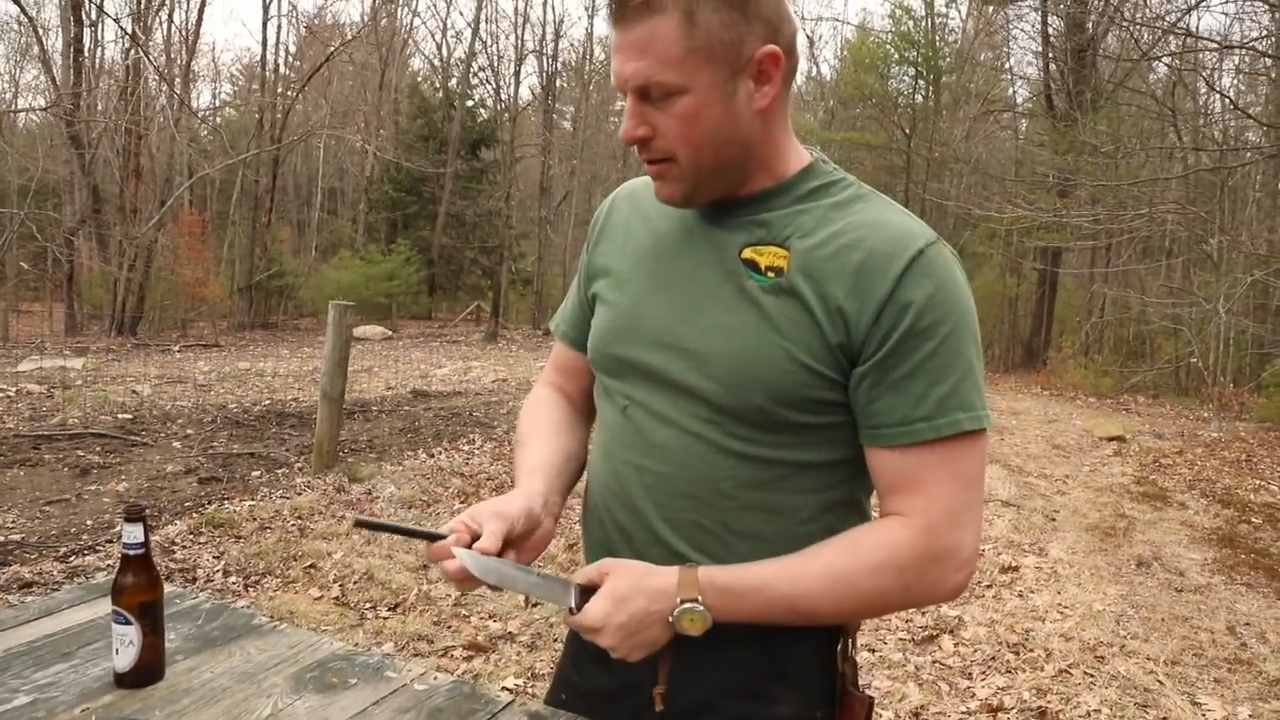knife: (432, 538, 659, 666)
